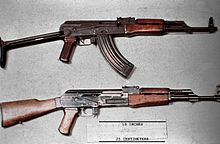ak47: (2, 17, 218, 78), (2, 82, 220, 136)
